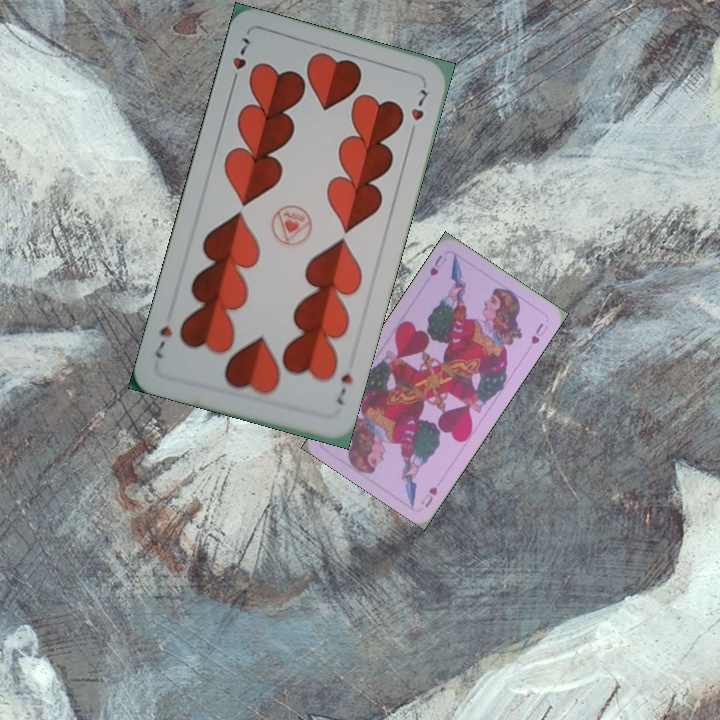H7: (227, 33, 253, 89), (332, 369, 355, 408)
HU: (426, 251, 449, 279), (417, 482, 440, 510)
